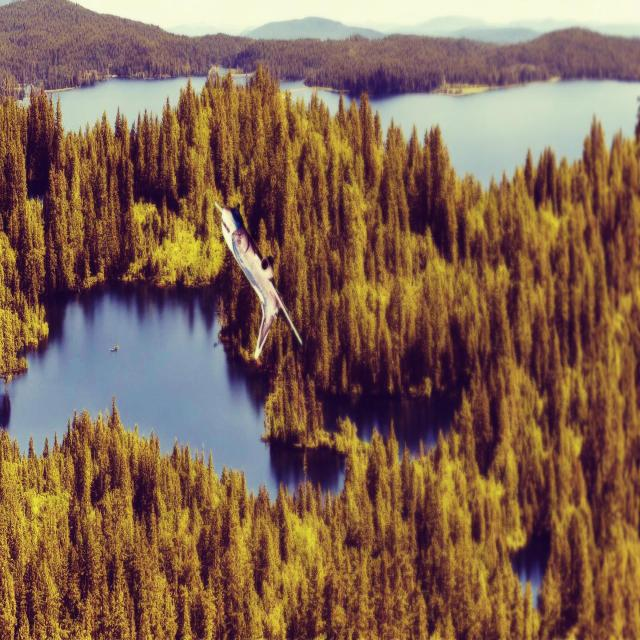airplane: (213, 200, 303, 361)
